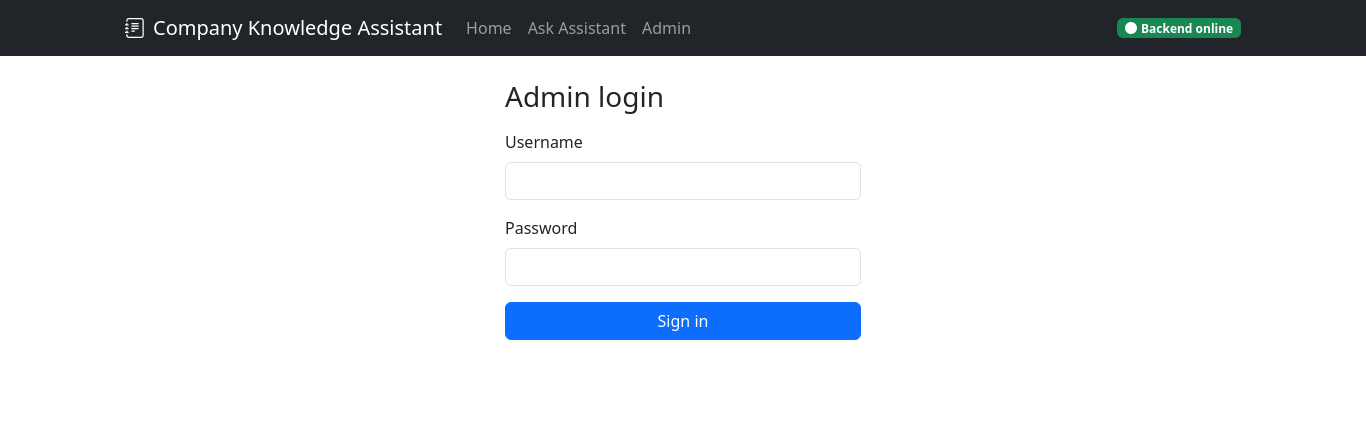
admin panel › shows an error for invalid credentials and stays on the login page
Type "admin" into the field labelled "Username".
click(683, 181); type("admin")  # box [505,162,861,200]
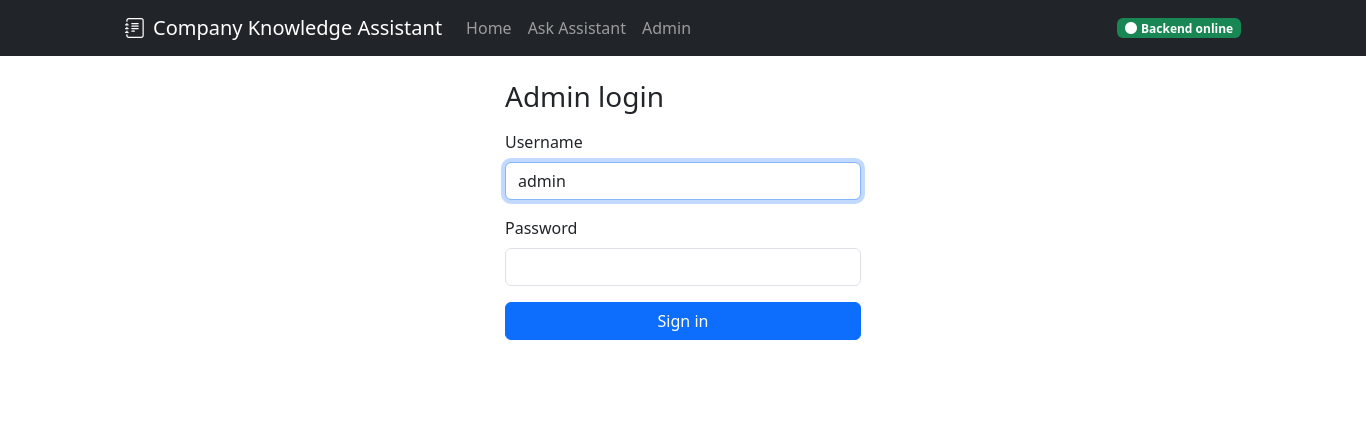
Type "nope" into the password field labelled "Password".
click(683, 267); type("nope")  # box [505,248,861,286]
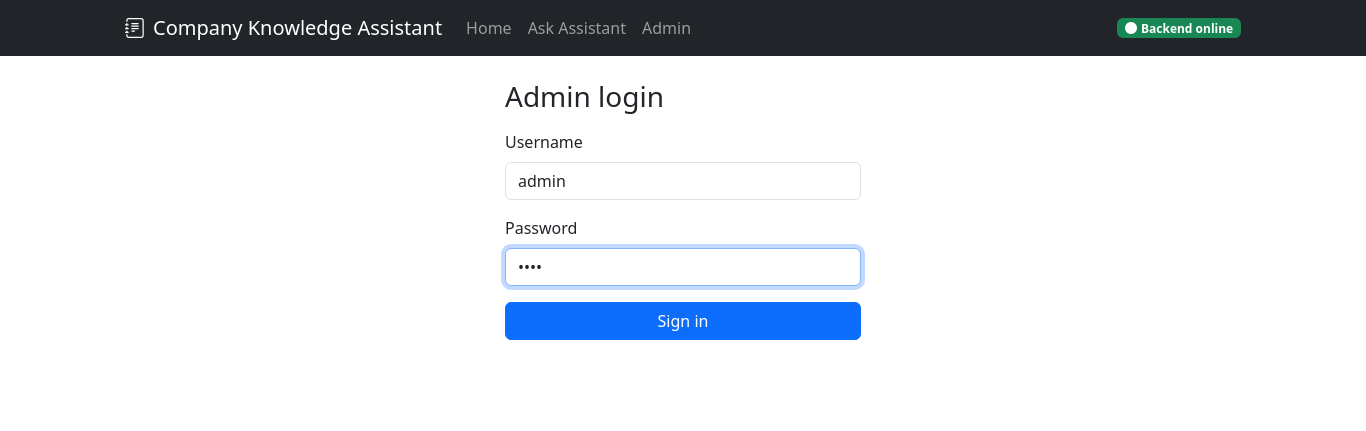
Click the button "Sign in".
click(683, 321)  # box [505,302,861,340]
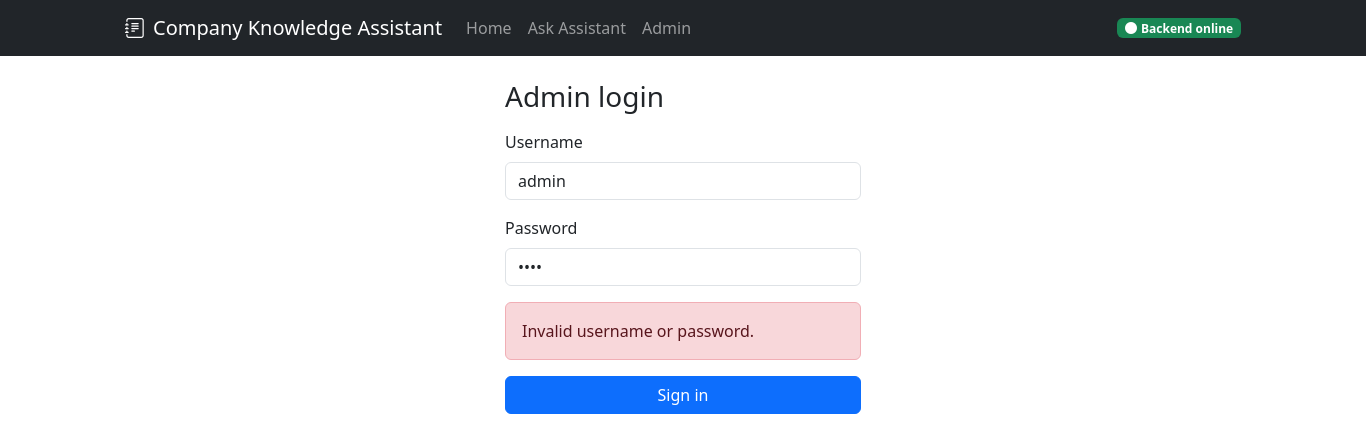
Expected: the heading "Admin login" is shown, [505,77,664,115]
Expected: the message "Invalid username or password." is shown, [505,302,861,360]
